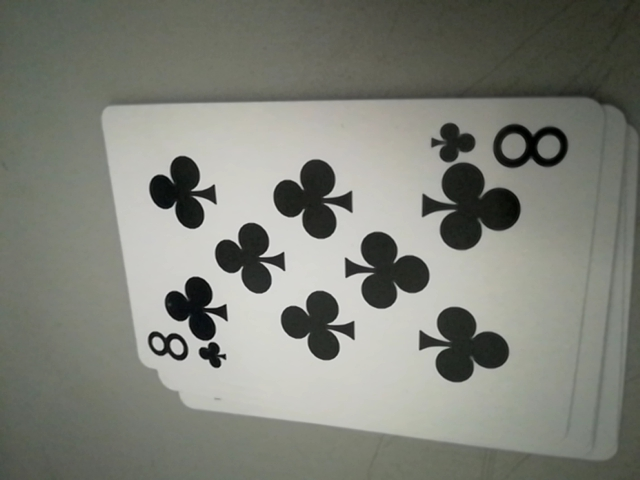mh 8: (426, 114, 568, 172), (144, 325, 225, 377)
